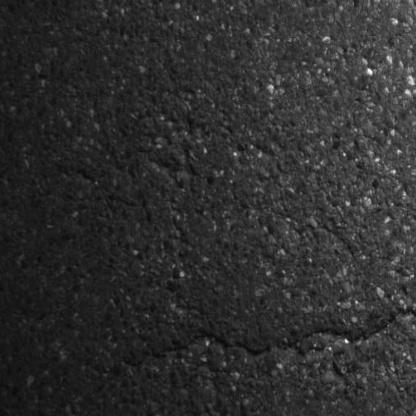Cracks: (117, 305, 416, 385)
